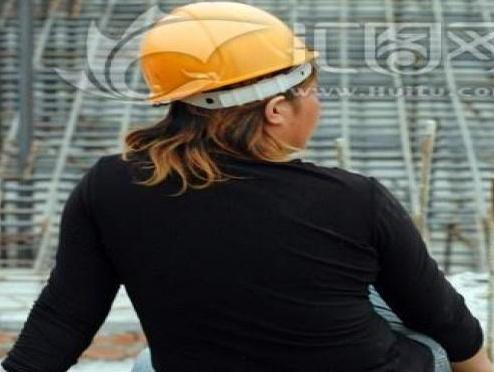hard-hat: (139, 0, 319, 109)
